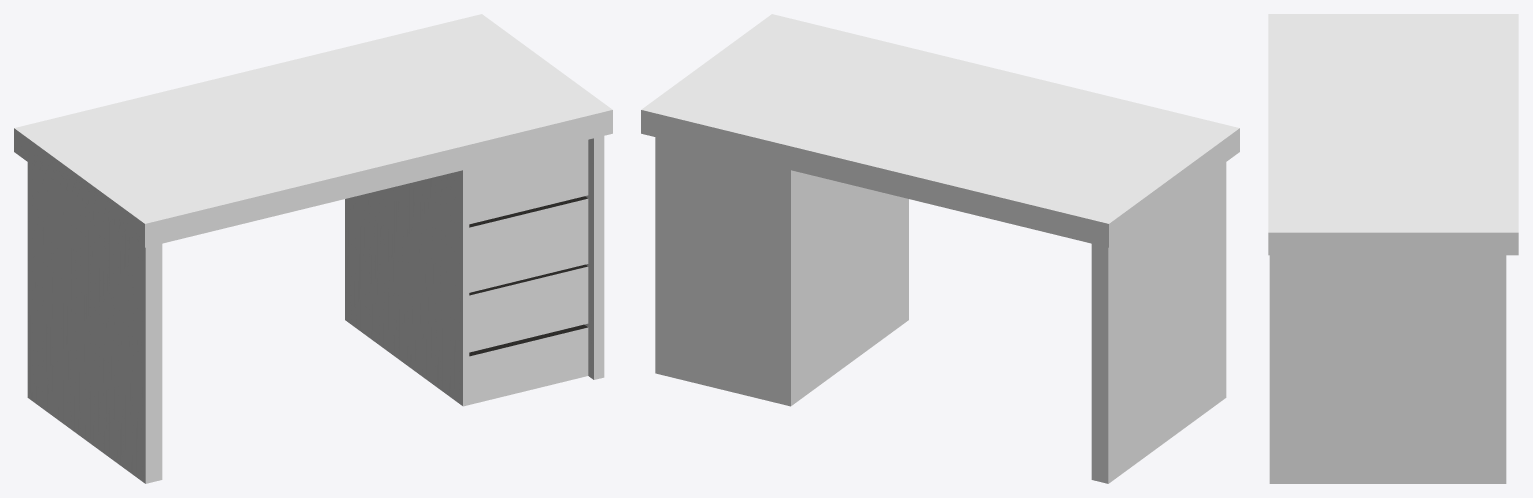
Rendered from Desk_2A.fbx.
3 views of the same model, side by side, from view 1: azimuth 30°, elevation 25°; view 2: azimuth 150°, elevation 25°; view 3: azimuth 270°, elevation 25° (orthographic). The views are drawn at different scales.
Visible parts, largest first — view 1: polySurface1505; view 2: polySurface1505; view 3: polySurface1505.
Boxes of the visible parts, box(x1,y1,x2,y2) form: polySurface1505: box(14, 14, 612, 483); polySurface1505: box(641, 14, 1239, 483); polySurface1505: box(1268, 14, 1518, 483).
Size of the model in its own units: 1.68 by 0.9158 by 0.8157.
1 material, 1 textured.
